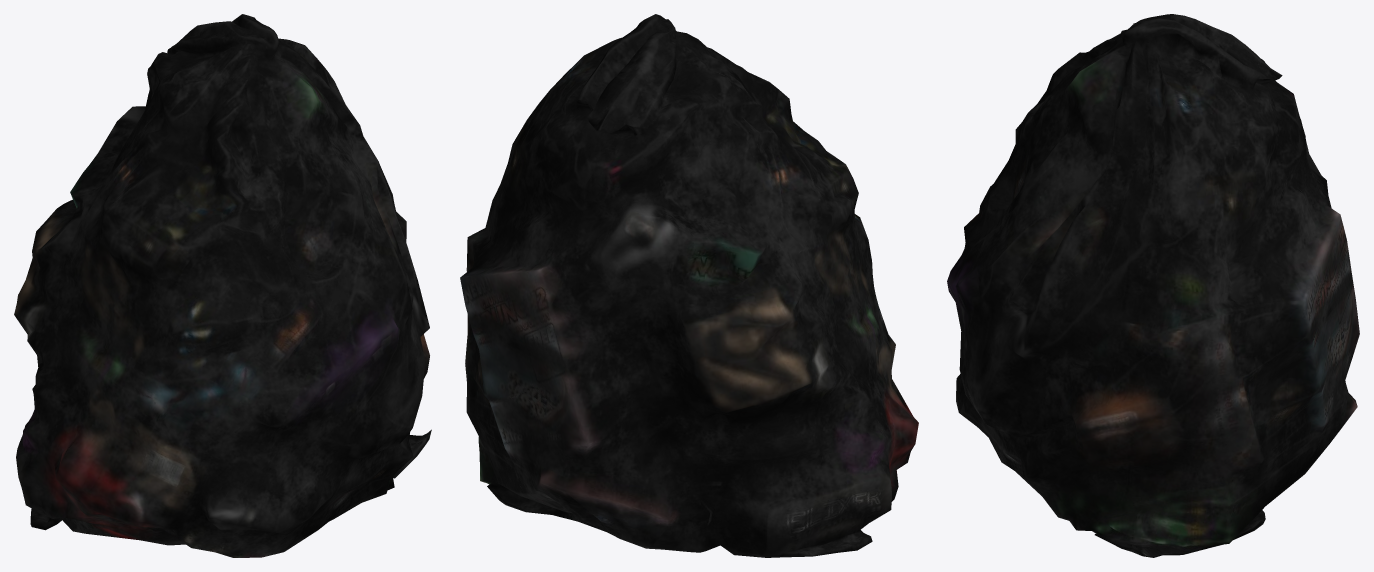
The model's file is trashbag.fbx.
The picture shows the model from 3 angles, left to right: view 1: azimuth 30°, elevation 25°; view 2: azimuth 150°, elevation 25°; view 3: azimuth 270°, elevation 25°; orthographic projection. The views are drawn at different scales.
Parts seen in each view (by area): view 1: trashbag_LOD0; view 2: trashbag_LOD0; view 3: trashbag_LOD0.
Part boxes in pixels (x1,y1,x2,y2): trashbag_LOD0: [14, 14, 431, 557]; trashbag_LOD0: [460, 14, 918, 557]; trashbag_LOD0: [947, 14, 1359, 557].
Size of what is drawn, in the model's own units: 52.81 by 57.5 by 46.29.
1 material, 1 textured.
